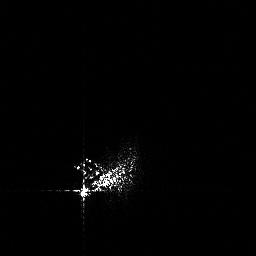ship: (49, 145, 141, 224)
